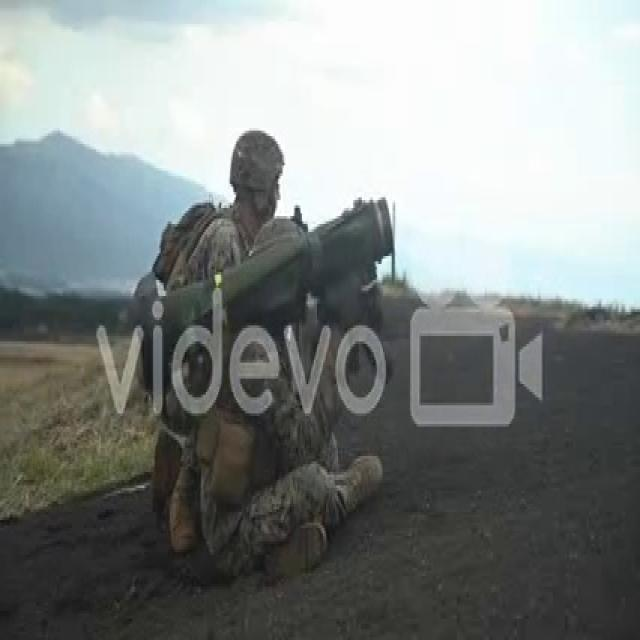bazooka: (130, 185, 398, 407)
